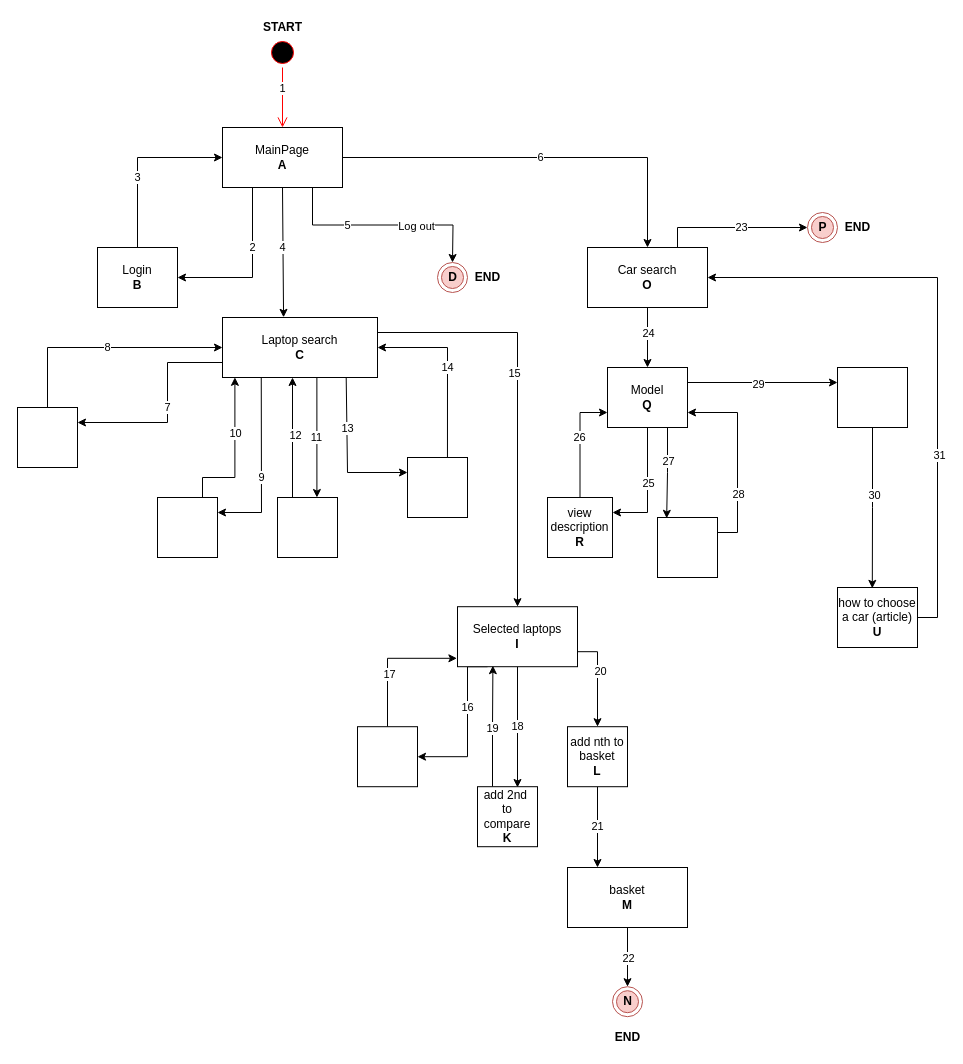
Some shapes in this 963 by 1064 pixel diagram are drawn without their labels. Here are the shapes that lost their labels. From the top down, the centre of each, then its label:
At point (872, 397): "poradna T".
At point (47, 437): "price E".
At point (437, 487): "cpu H".
At point (187, 527): "review F".
At point (307, 527): "available G".
At point (687, 547): "reviews S".
At point (387, 756): "add 1st to compare J".
